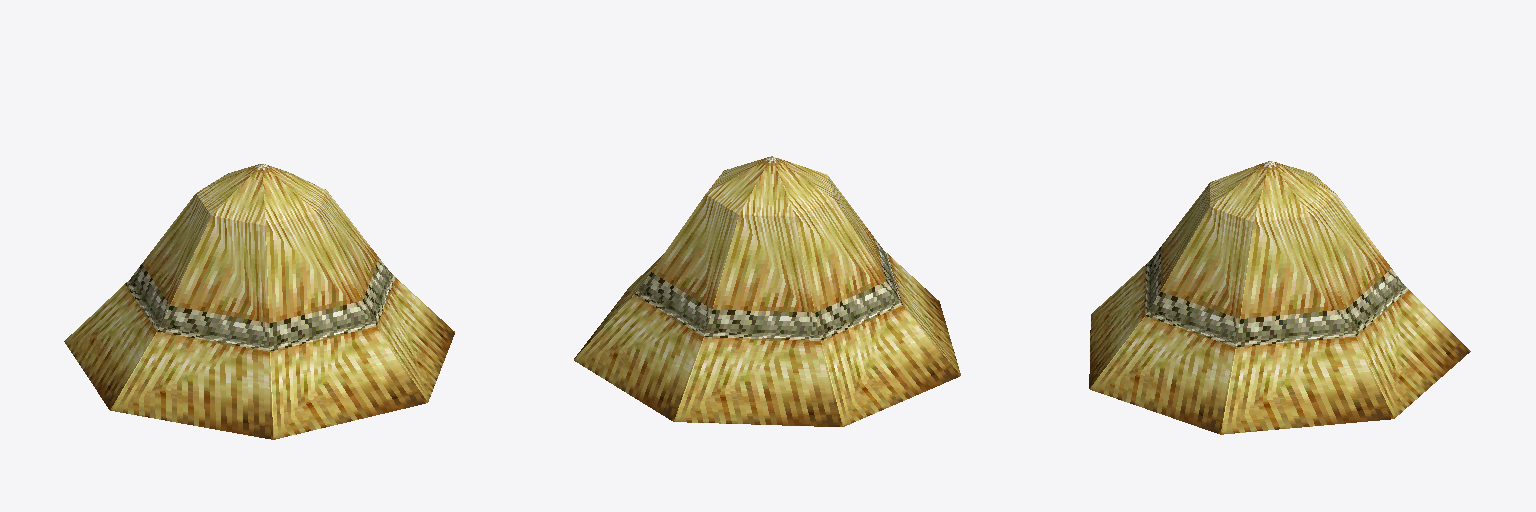
3 renders of one model, left to right at view 1: azimuth 30°, elevation 25°; view 2: azimuth 150°, elevation 25°; view 3: azimuth 270°, elevation 25°, orthographic.
Parts seen in each view (by area): view 1: Hay1; view 2: Hay1; view 3: Hay1.
Boxes of the visible parts, x1,y1,x2,y2 form: Hay1: [64, 164, 454, 439]; Hay1: [574, 156, 960, 426]; Hay1: [1089, 161, 1470, 434].
Size of the model in its own units: 4.27 by 2.31 by 4.16.
Materials: 1 (1 with a texture image).